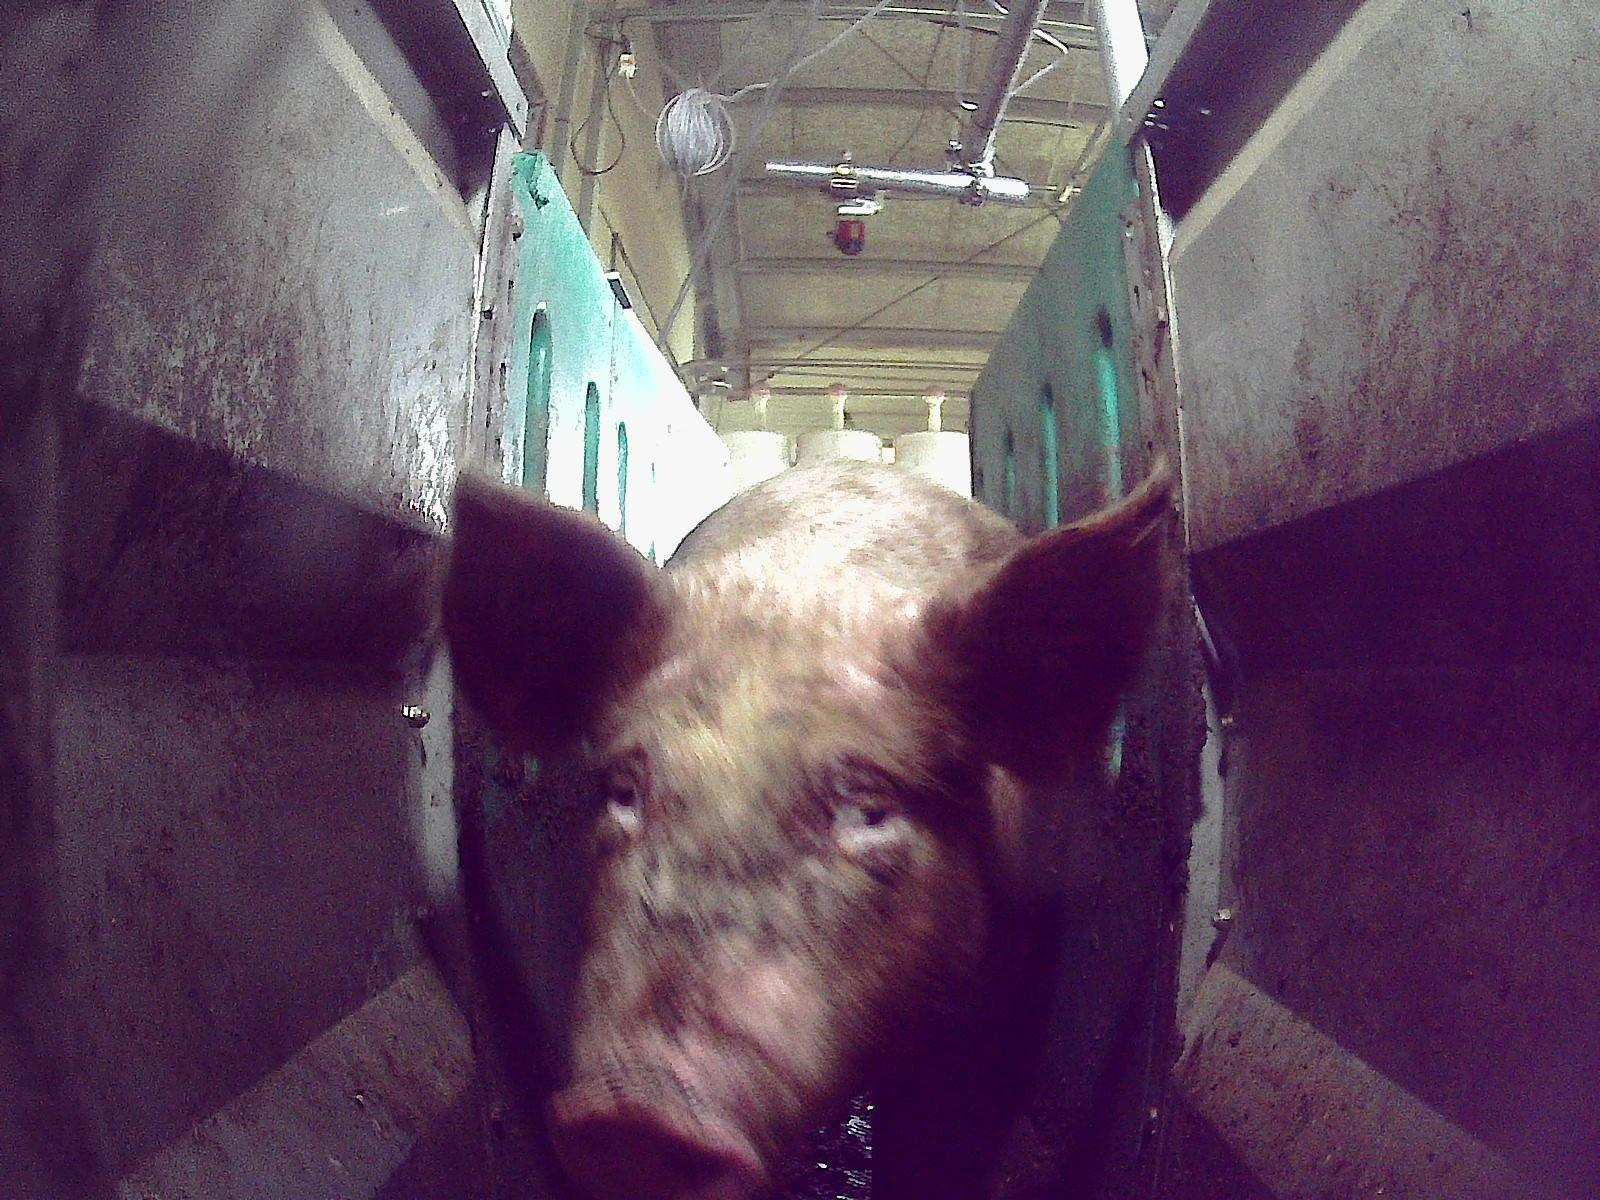Face: (544, 624, 994, 1199)
